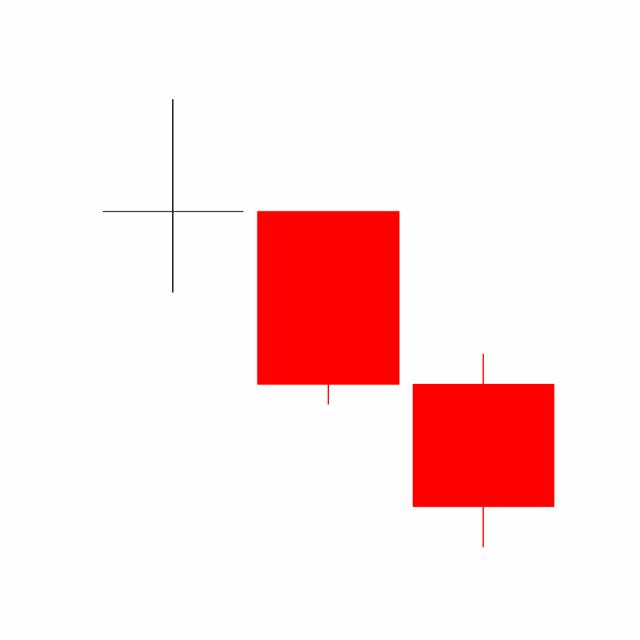Marubozu: (249, 209, 406, 407)
